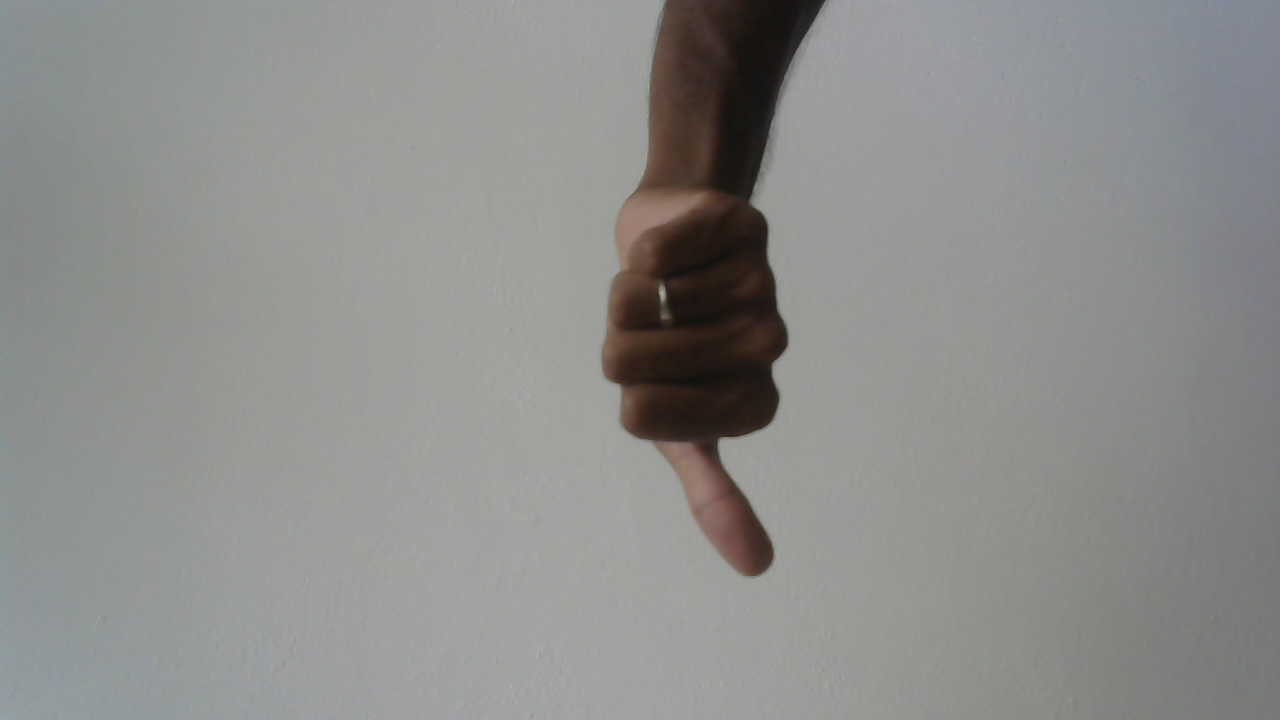thumbsdown: (587, 170, 827, 593)
